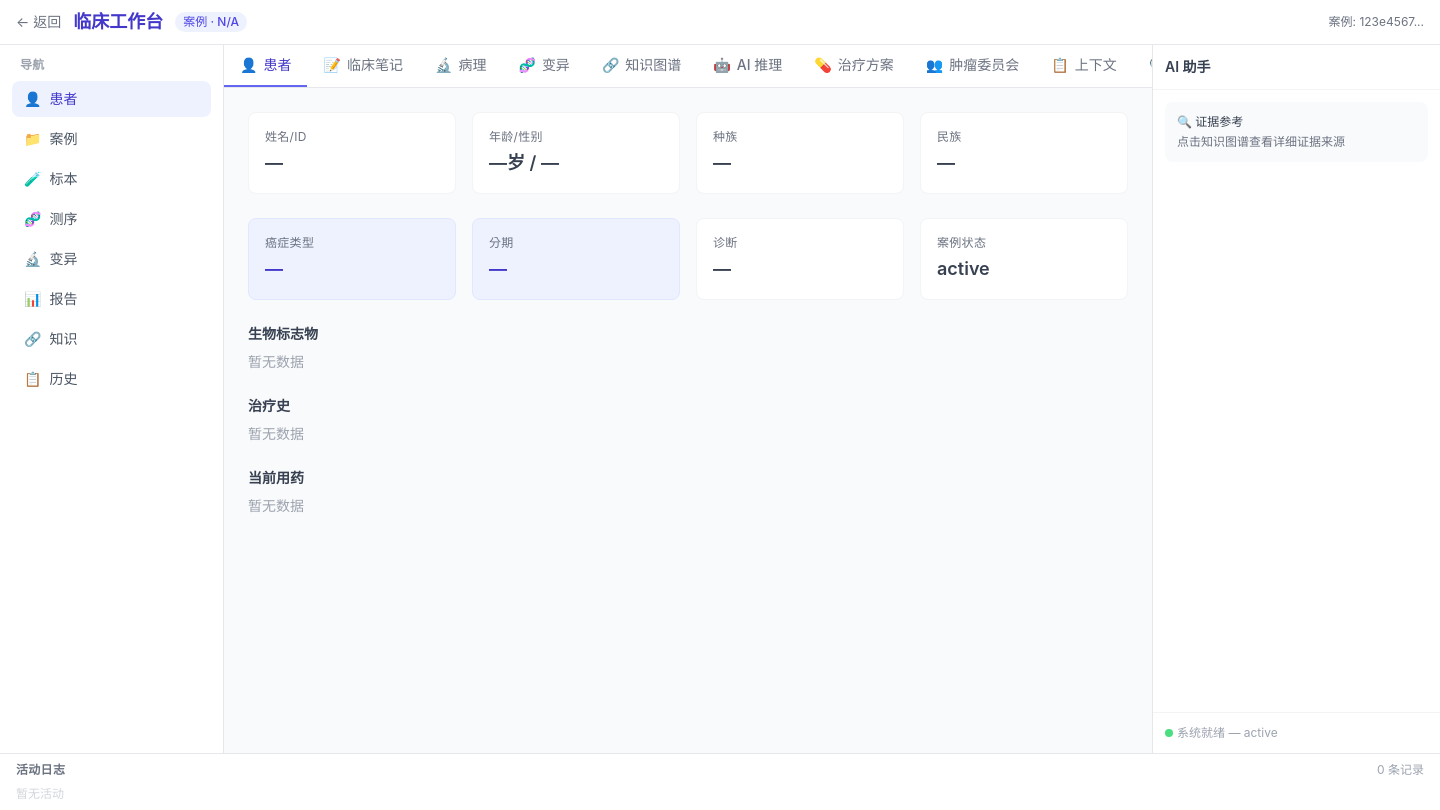
Workbench core states › shows empty state for pathology tab
This screenshot has width=1440, height=810.
Click the button "🔬病理": coordinates (461, 66) left=419, top=45, right=502, bottom=87
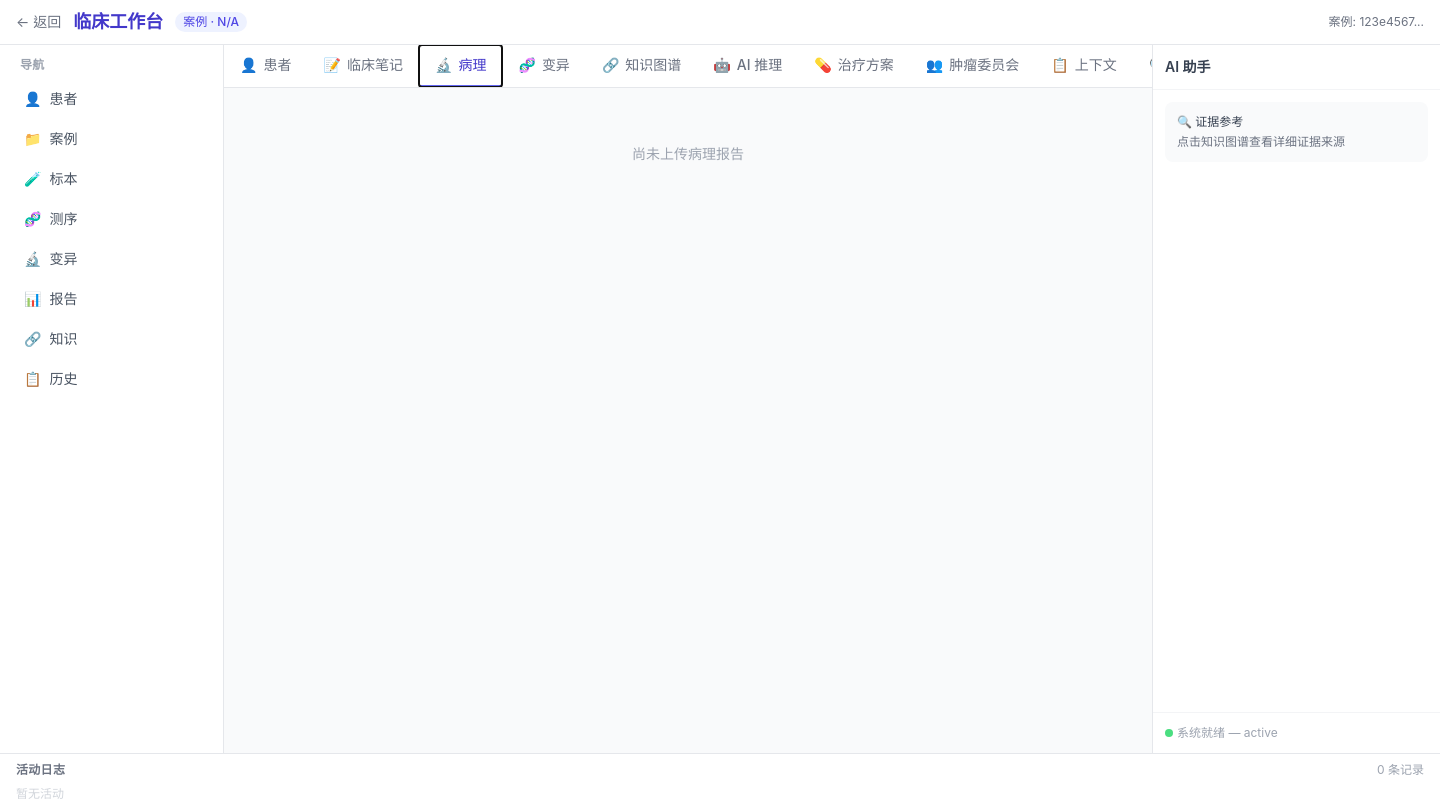
Now the text "尚未上传病理报告" is shown, box left=632, top=145, right=744, bottom=162
